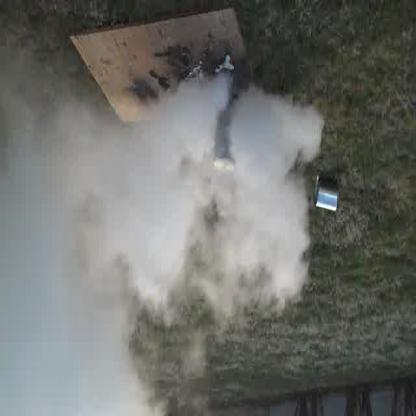Smoke: (1, 59, 306, 409)
